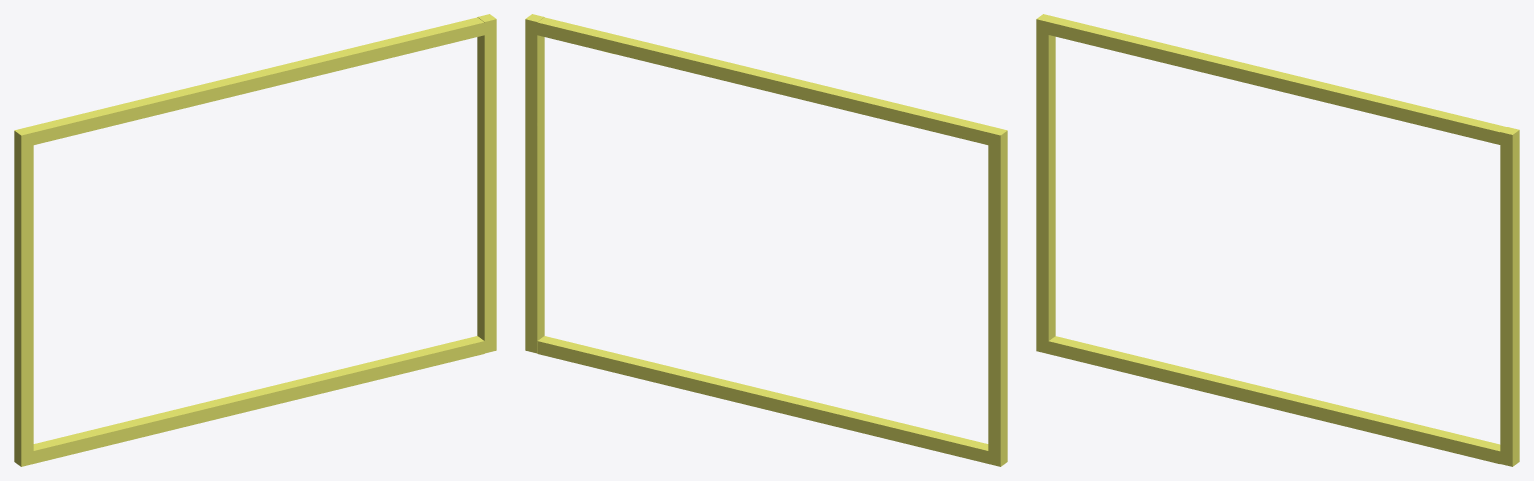
The model's file is environment.dae.
3 renders of one model, left to right at view 1: azimuth 30°, elevation 25°; view 2: azimuth 150°, elevation 25°; view 3: azimuth 330°, elevation 25°, orthographic.
Visible parts, largest first — view 1: instance_0_012; view 2: instance_0_012; view 3: instance_0_012.
Boxes of the visible parts, x1,y1,x2,y2 form: instance_0_012: (14,14,496,466); instance_0_012: (525,14,1007,466); instance_0_012: (1036,14,1519,466).
Size of the model in its own units: 661 by 17.37 by 441.
